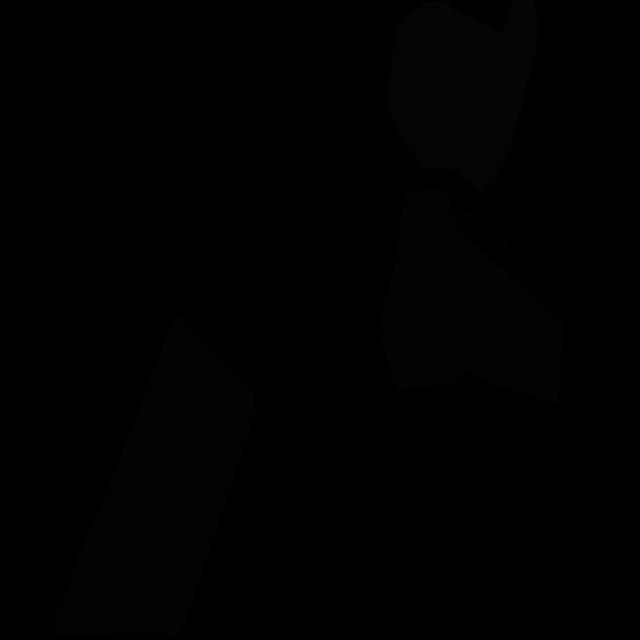cardboard: (54, 316, 256, 639), (378, 187, 565, 405)
rigid_plastic: (457, 210, 512, 271), (452, 370, 483, 397)
soft_plastic: (386, 0, 538, 192)
